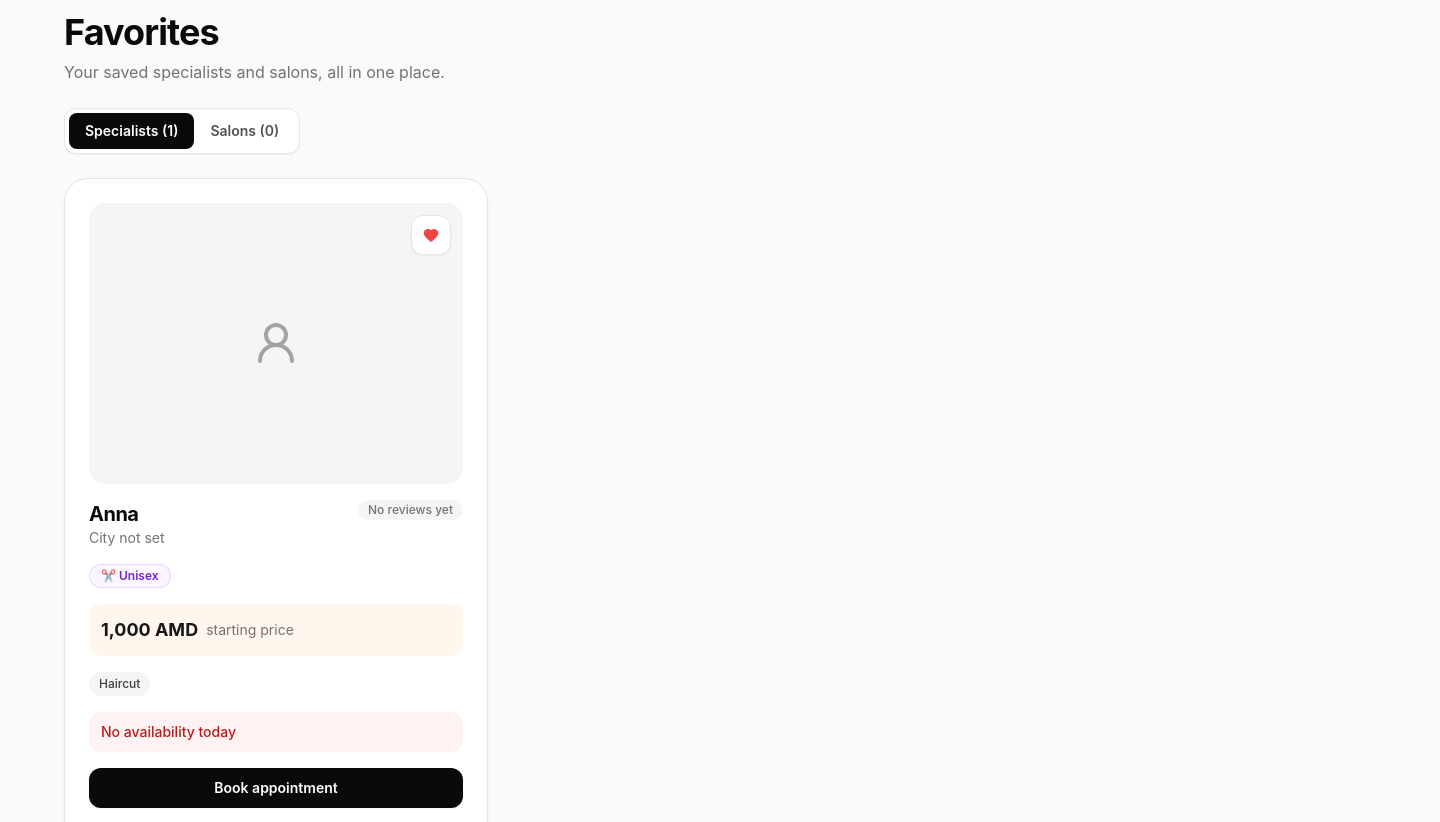
Scenario: FavoritesPage favorite removal protection › restores a specialist favorite button after failure without removing the item
Click the button named "Remove favorite": click(431, 235) [411,215,451,255]
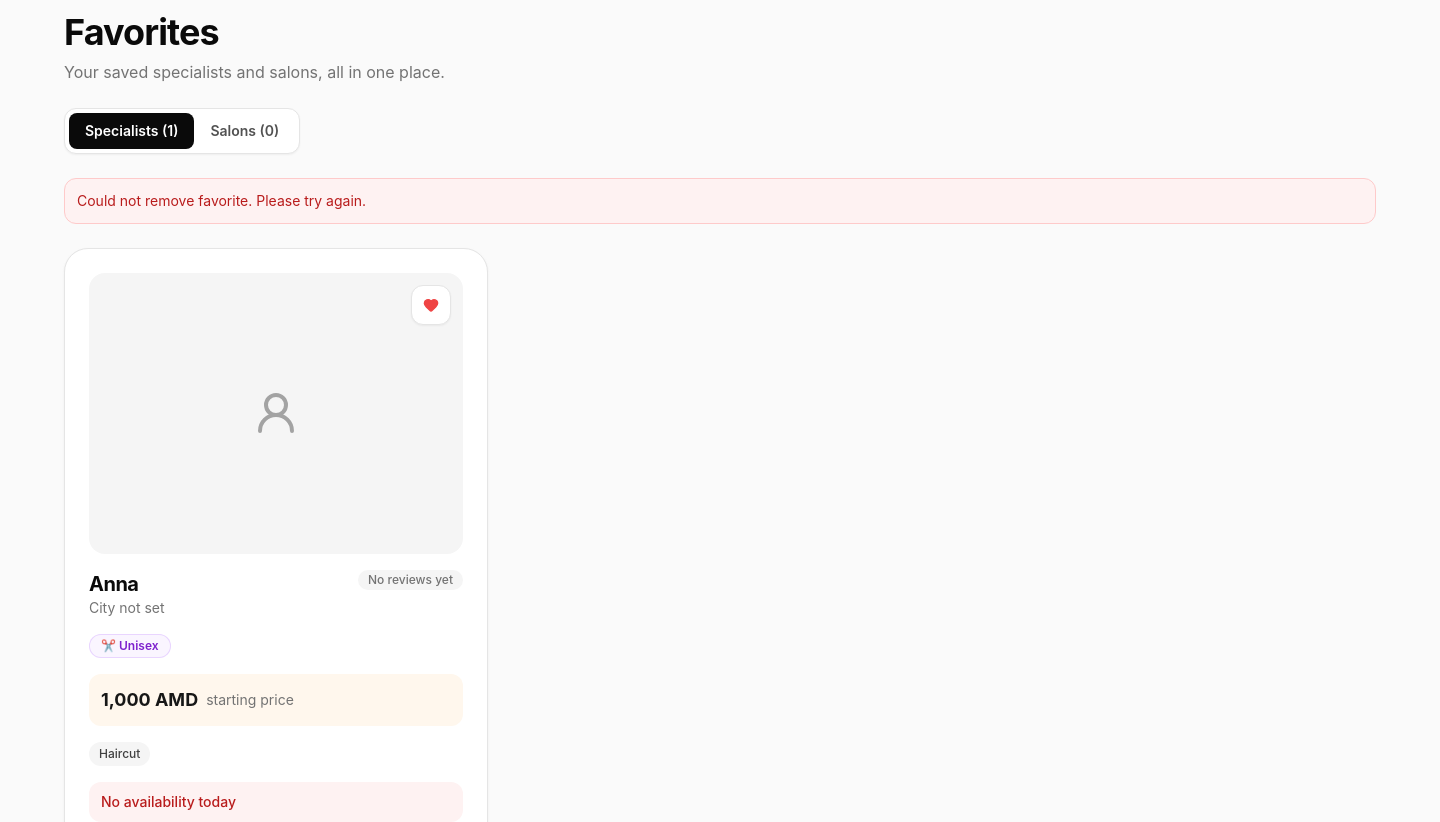
expect the button named "Remove favorite" is enabled: met, box [411,285,451,325]
expect the text "Could not remove favorite. Please try again." is shown: met, box [64,178,1376,224]
